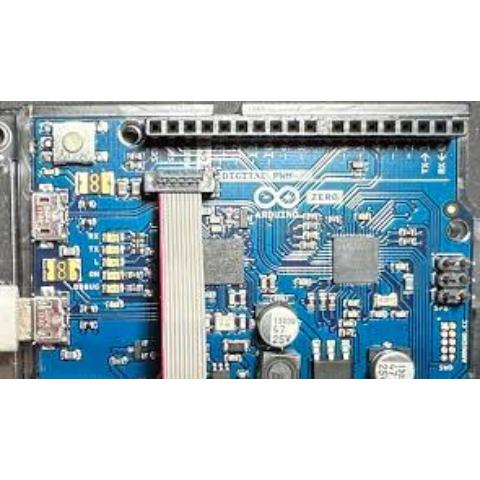Arduino-Zero: (20, 105, 480, 379)
